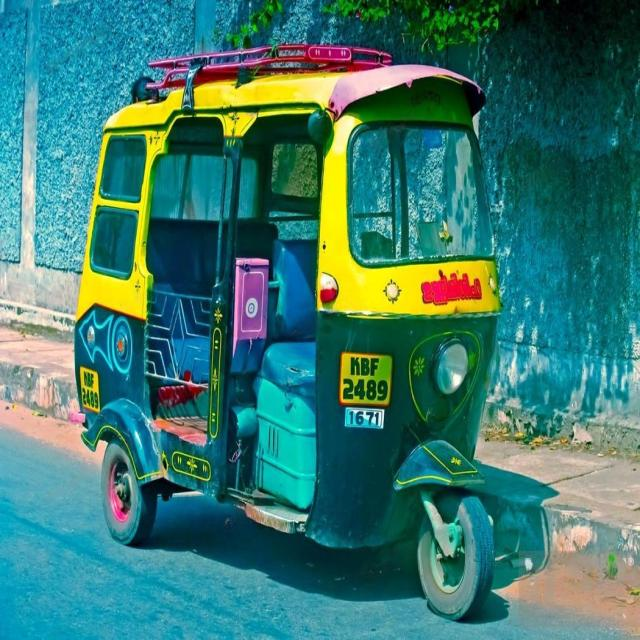autorickshaw: (75, 43, 500, 618)
